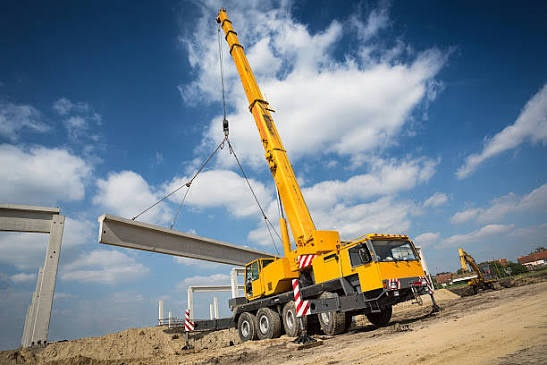crane: (104, 15, 475, 342)
